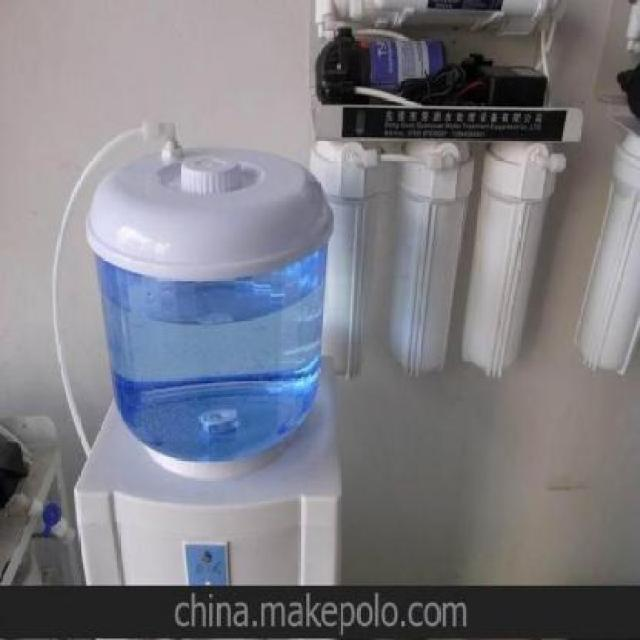coolerbottle: (81, 140, 338, 470)
